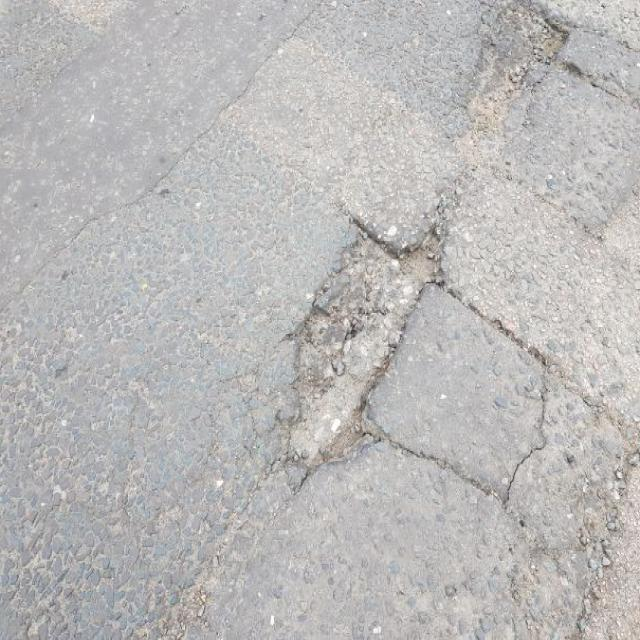pothole: (272, 210, 454, 492), (458, 2, 583, 138)
